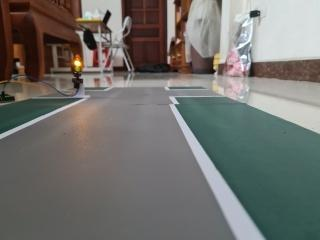yellow: (68, 49, 90, 81)
